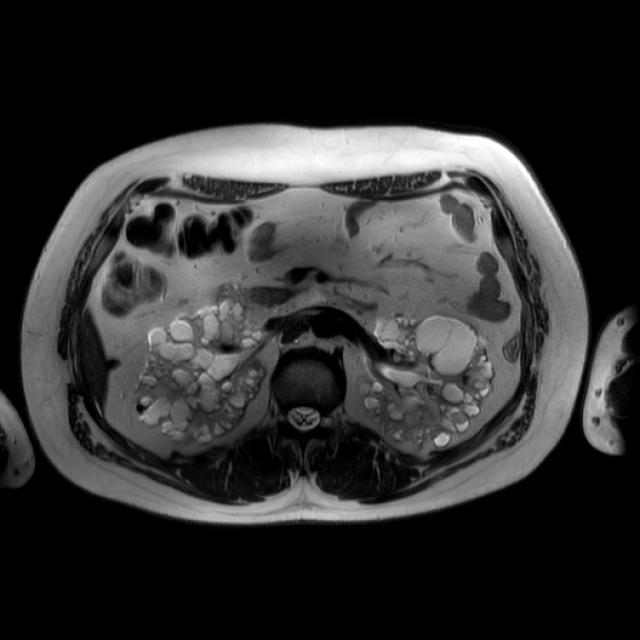sag: (137, 300, 266, 440)
sol: (365, 317, 494, 445)
